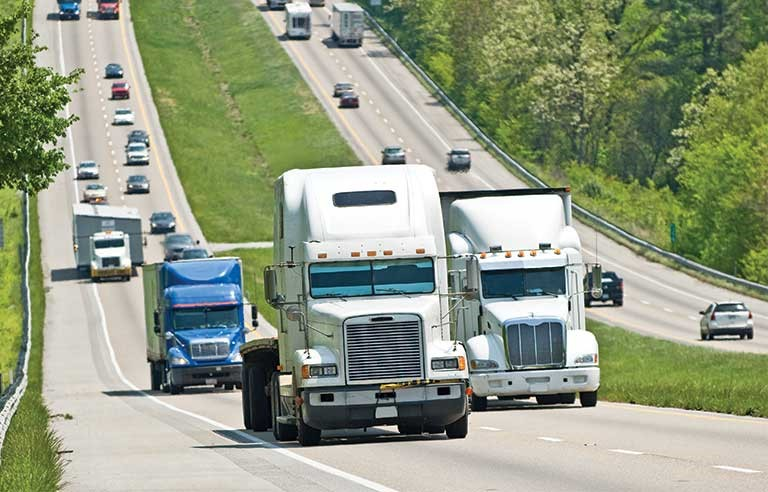HeavyVehicle: (262, 171, 471, 448)
